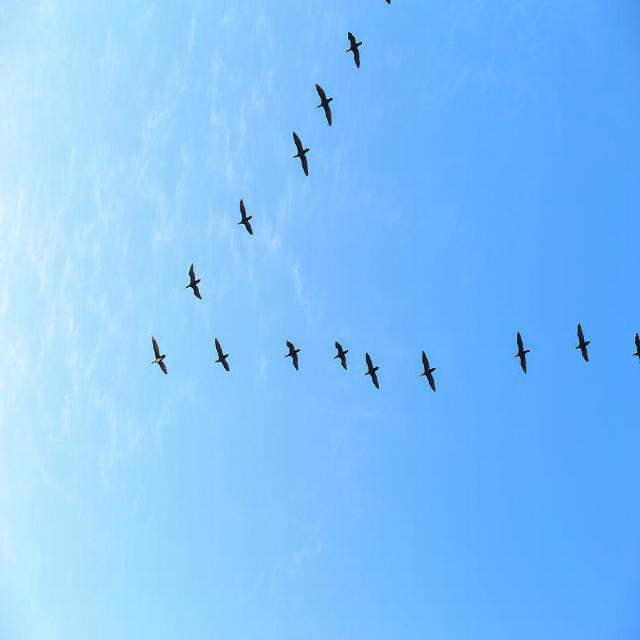bird: (334, 19, 372, 88), (282, 122, 314, 182), (414, 338, 444, 398), (360, 338, 384, 398), (231, 190, 258, 243), (308, 82, 338, 128), (181, 256, 208, 306), (212, 334, 240, 382), (145, 331, 169, 386), (510, 328, 535, 379), (330, 334, 353, 380), (575, 317, 596, 365), (278, 332, 304, 370)
